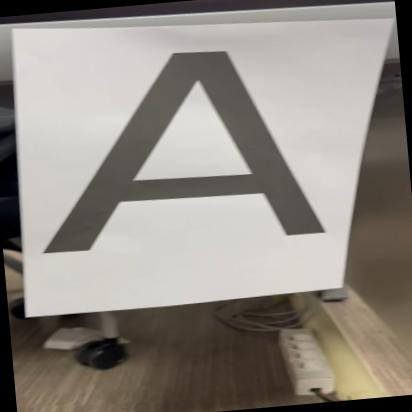seat: (29, 34, 334, 262)
